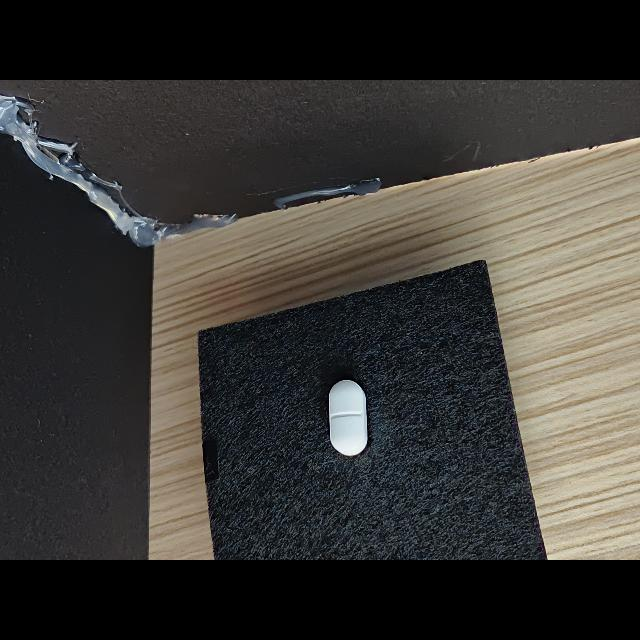Intact Pill: (329, 380, 368, 456)
